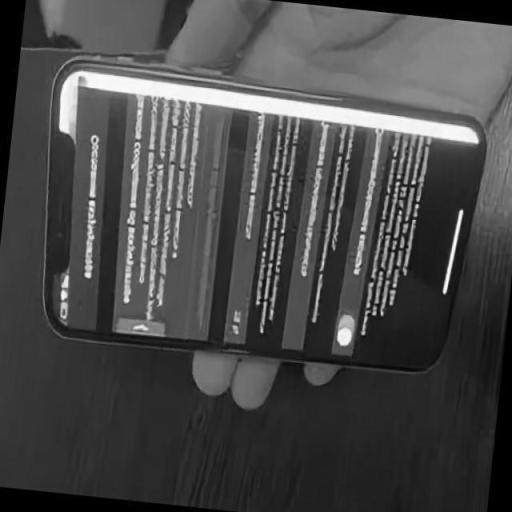phone: (43, 56, 485, 372)
